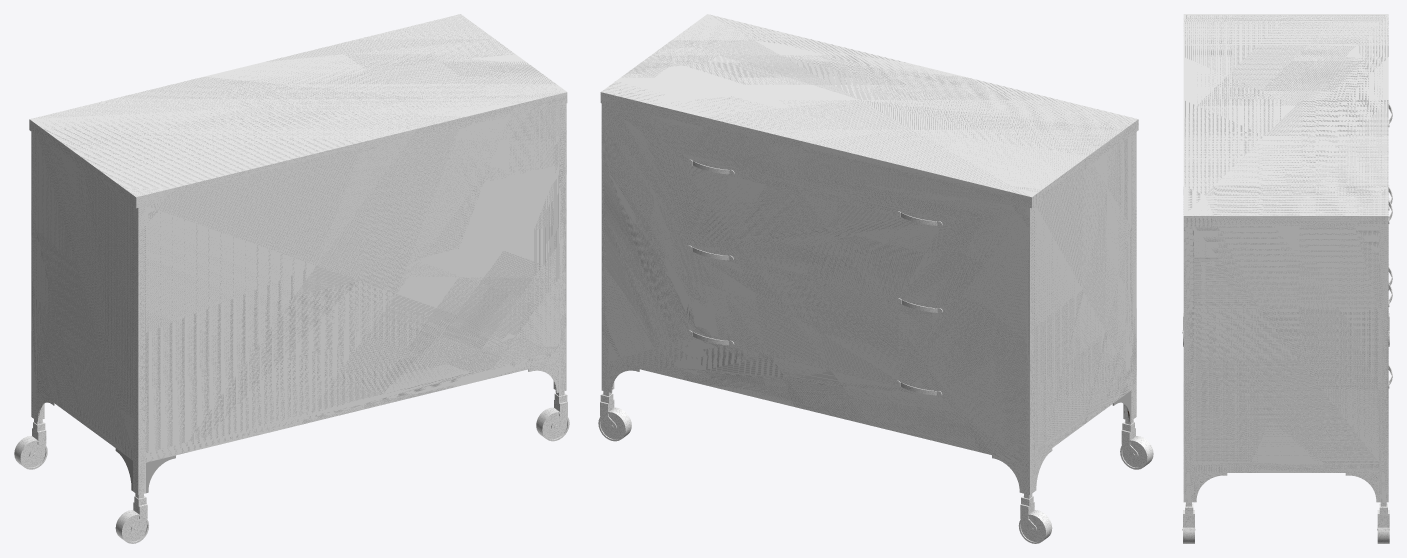
3 renders of one model, left to right at view 1: azimuth 30°, elevation 25°; view 2: azimuth 150°, elevation 25°; view 3: azimuth 270°, elevation 25°, orthographic. The views are drawn at different scales.
Visible parts, largest first — view 1: mesh13_mesh13-geometry, mesh8_mesh8-geometry, mesh7_mesh7-geometry, mesh10_mesh10-geometry; view 2: mesh13_mesh13-geometry, mesh7_mesh7-geometry, mesh9_mesh9-geometry, mesh8_mesh8-geometry; view 3: mesh13_mesh13-geometry, mesh9_mesh9-geometry, mesh10_mesh10-geometry, mesh11_mesh11-geometry, mesh12_mesh12-geometry.
Boxes of the visible parts, bbox=[...] form: mesh13_mesh13-geometry: bbox=[29, 14, 567, 494]; mesh8_mesh8-geometry: bbox=[14, 419, 47, 469]; mesh7_mesh7-geometry: bbox=[115, 493, 148, 543]; mesh10_mesh10-geometry: bbox=[536, 391, 569, 441]; mesh13_mesh13-geometry: bbox=[600, 14, 1138, 494]; mesh7_mesh7-geometry: bbox=[1120, 419, 1153, 469]; mesh9_mesh9-geometry: bbox=[598, 391, 631, 441]; mesh8_mesh8-geometry: bbox=[1018, 493, 1052, 543]; mesh13_mesh13-geometry: bbox=[1183, 14, 1392, 502]; mesh9_mesh9-geometry: bbox=[1377, 502, 1389, 543]; mesh10_mesh10-geometry: bbox=[1182, 502, 1195, 543]; mesh11_mesh11-geometry: bbox=[1345, 473, 1378, 502]; mesh12_mesh12-geometry: bbox=[1194, 473, 1227, 502].
Size of the model in its own units: 0.7618 by 0.562 by 0.3222.
